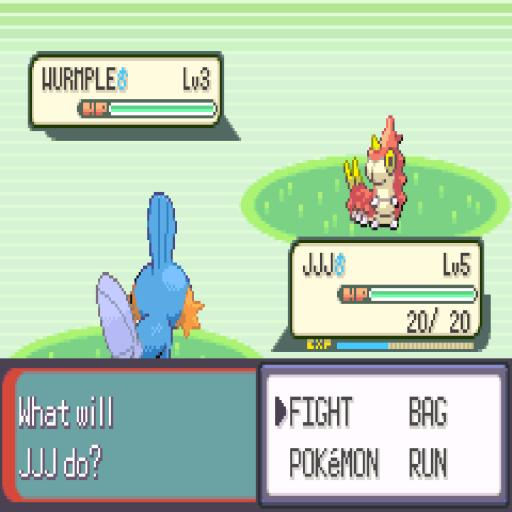menu: (263, 366, 504, 501)
selected item: (272, 378, 366, 436)
